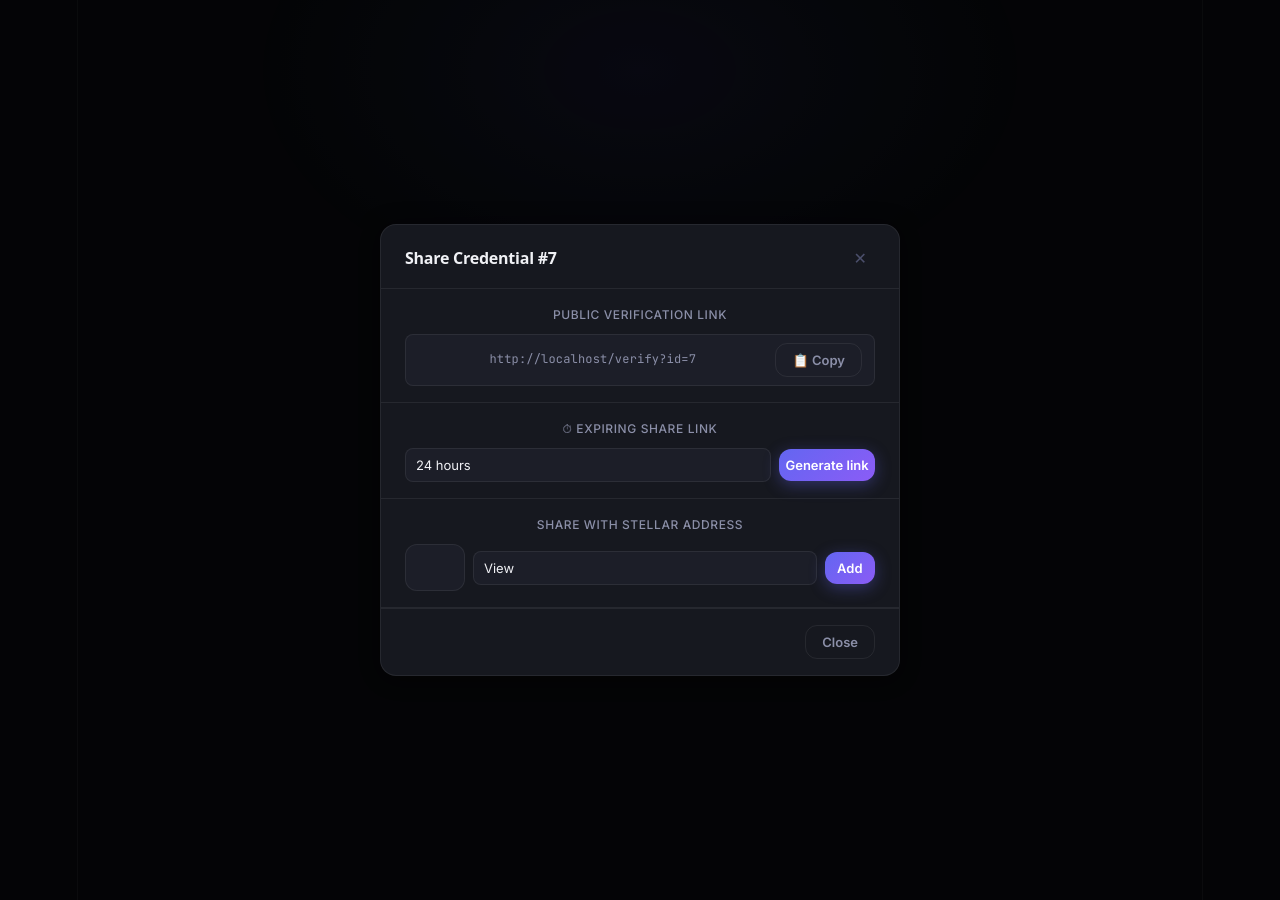
Test: ShareCredentialDialog — generate link flow › shows an error when generateShareLink rejects
Click the button with aria-label "Generate expiring share link" at [827, 465], box left=779, top=449, right=875, bottom=481
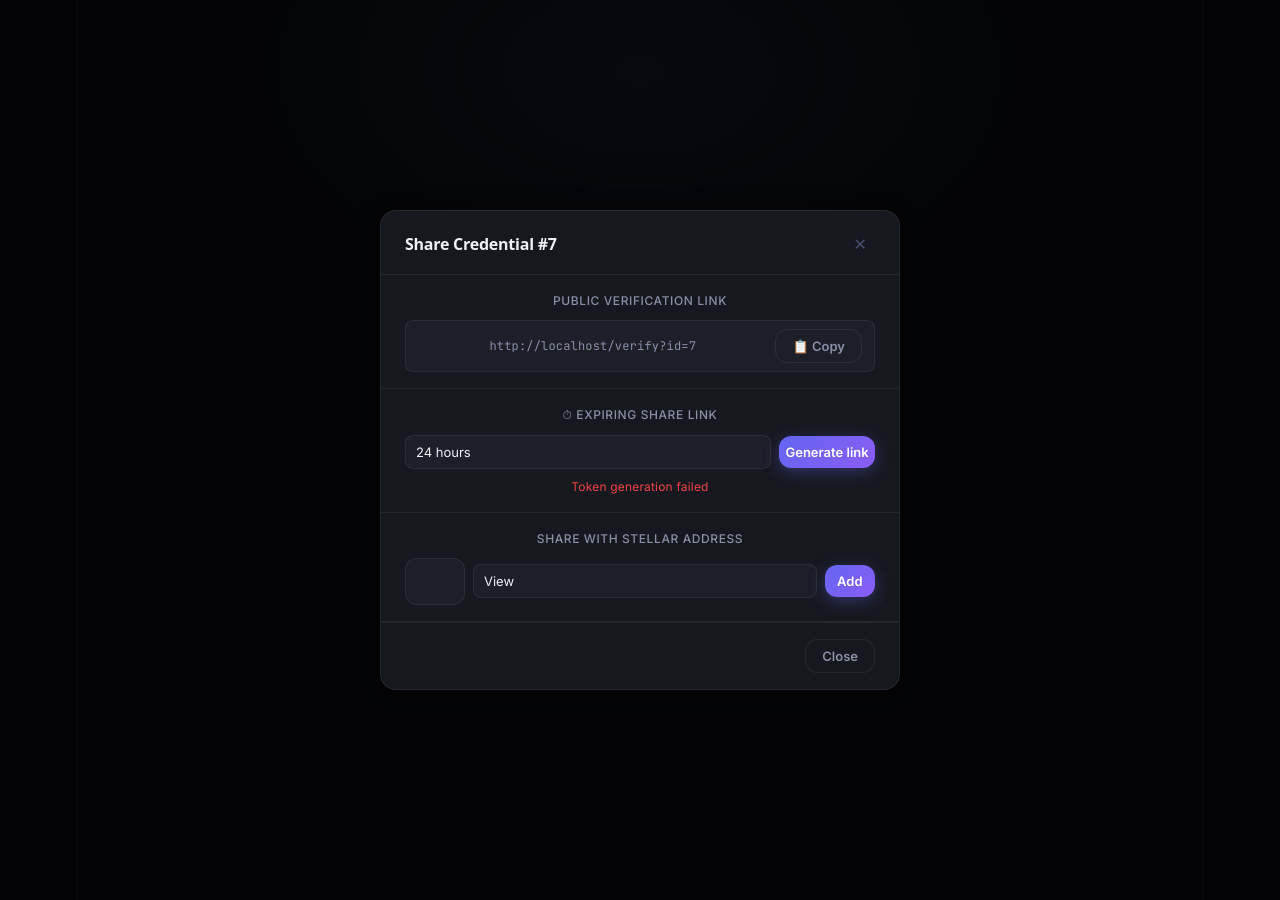
Check: the message reads "Token generation failed", box left=571, top=478, right=709, bottom=494
